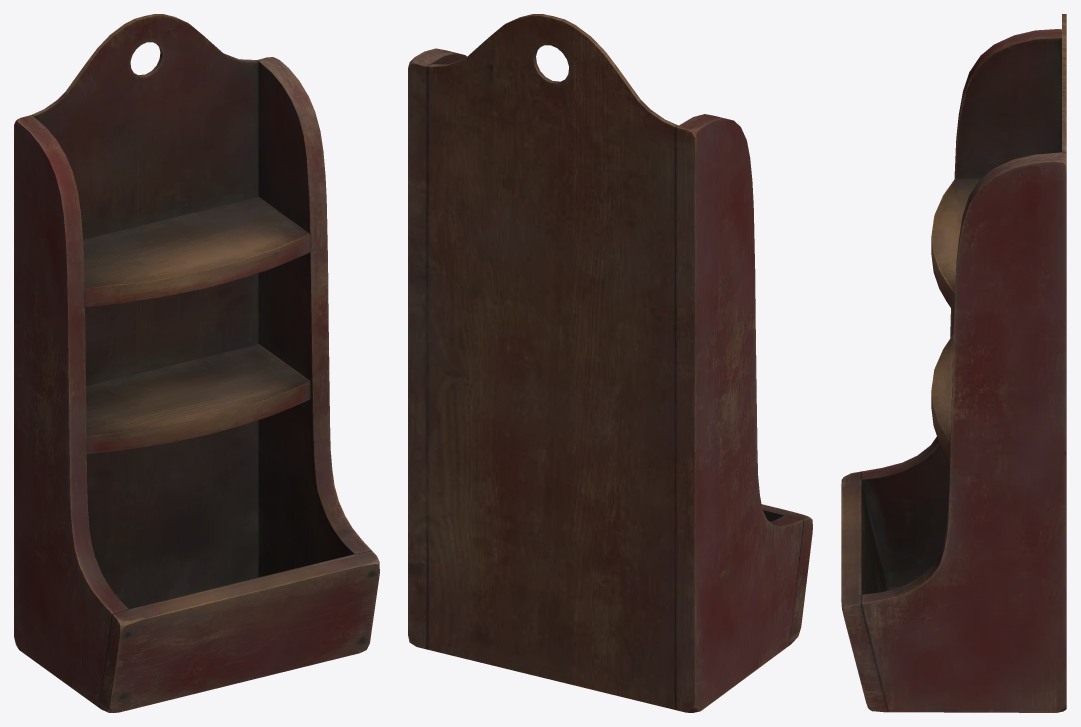
Rendered from painted_wooden_shelves.glb.
The picture shows the model from 3 angles, left to right: view 1: azimuth 30°, elevation 25°; view 2: azimuth 150°, elevation 25°; view 3: azimuth 270°, elevation 25°; orthographic projection. The views are drawn at different scales.
Visible parts, largest first — view 1: painted_wooden_shelves; view 2: painted_wooden_shelves; view 3: painted_wooden_shelves.
Boxes of the visible parts, x1,y1,x2,y2 form: painted_wooden_shelves: [14, 14, 379, 712]; painted_wooden_shelves: [408, 14, 812, 712]; painted_wooden_shelves: [841, 14, 1066, 712].
Size of the model in its own units: 0.5111 by 1.13 by 0.3671.
Materials: 1 (1 with a texture image).
